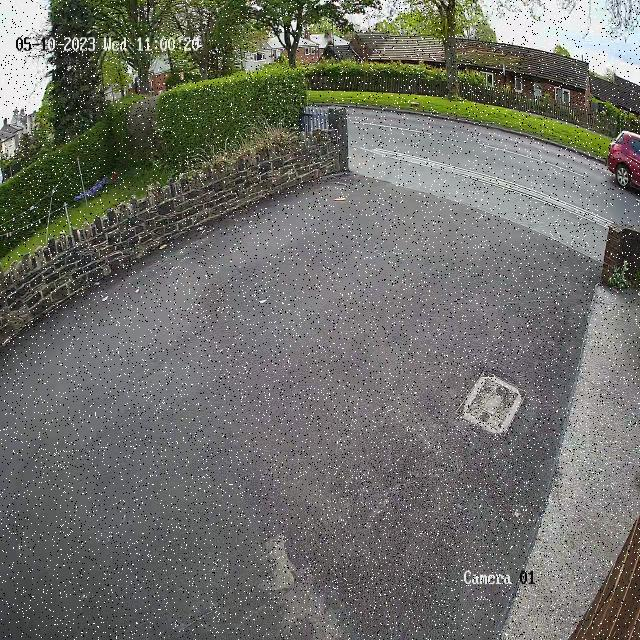vehicle: (604, 125, 640, 196)
